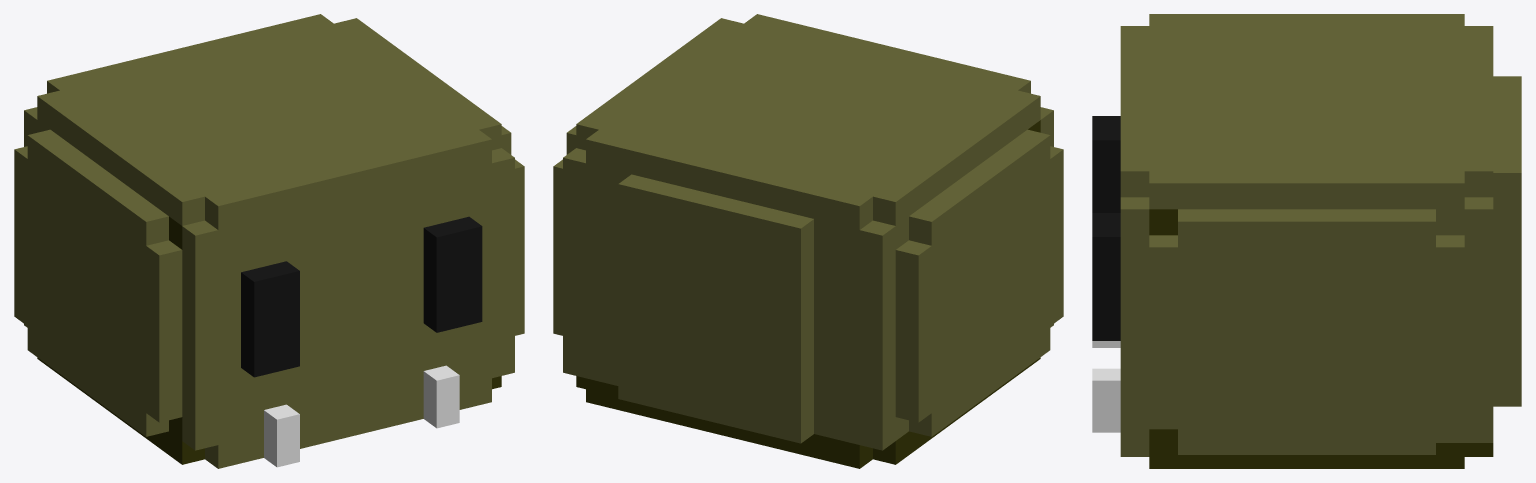
Rendered from Goblinhead.obj.
3 views of the same model, side by side, from view 1: azimuth 30°, elevation 25°; view 2: azimuth 150°, elevation 25°; view 3: azimuth 270°, elevation 25° (orthographic). The views are drawn at different scales.
Bounding box in the file's own units: 1.6 × 1.2 × 1.5.
Materials: 1 (1 with a texture image).
